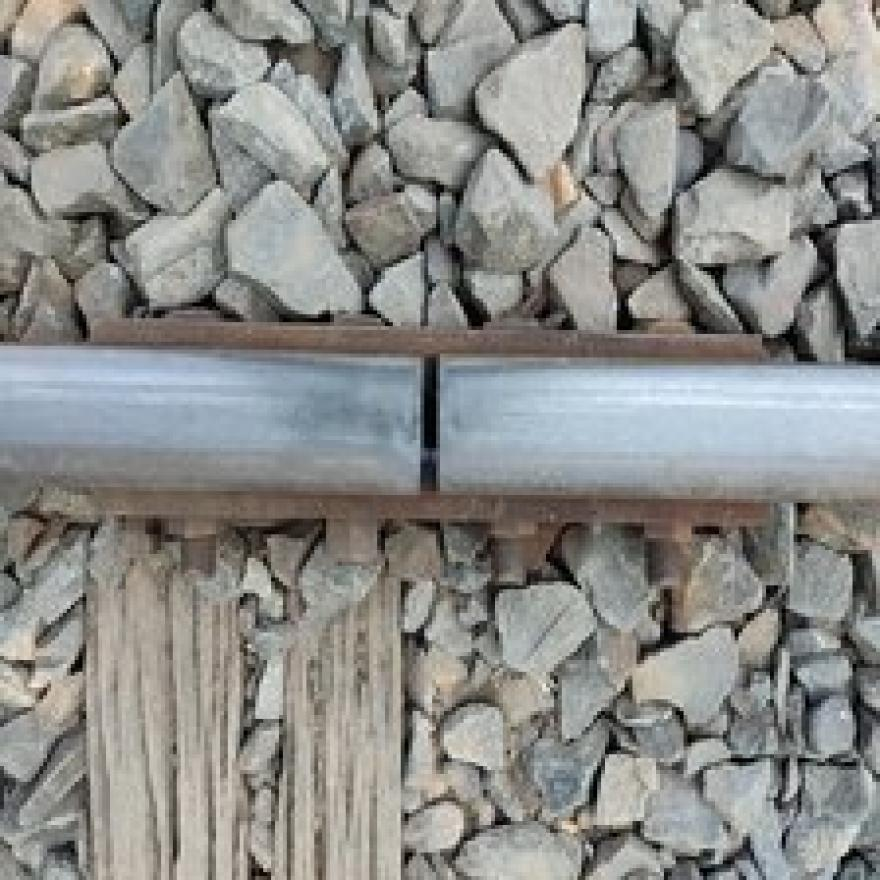railway-gap: (327, 311, 528, 531)
